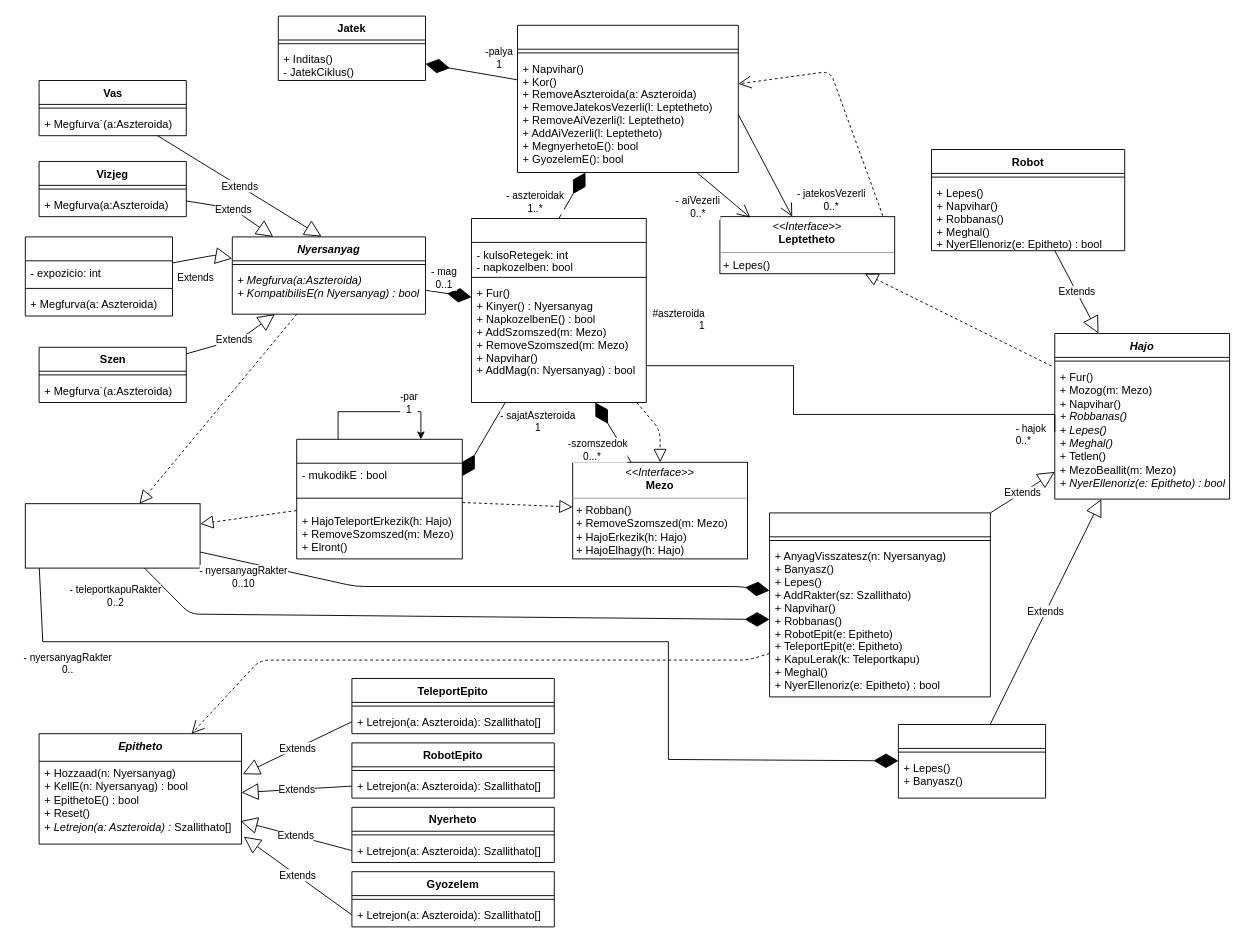
Some shapes in this 1246 by 948 pixel diagram are drawn without their labels. Here are the shapes that lost their labels. From the top down, the box of each, then its label:
(517, 24, 738, 172): Palya
(24, 236, 172, 316): Uran
(471, 218, 646, 402): Aszteroida
(296, 438, 462, 559): Teleportkapu
(24, 503, 200, 568): <<Interface>> Szallithato + Megsemmisul()
(769, 512, 990, 697): Telepes
(897, 724, 1046, 798): UFO
